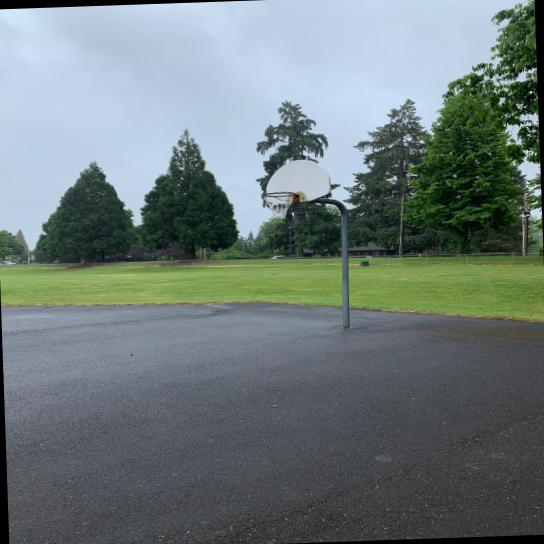basketball-hoop: (262, 191, 297, 220)
